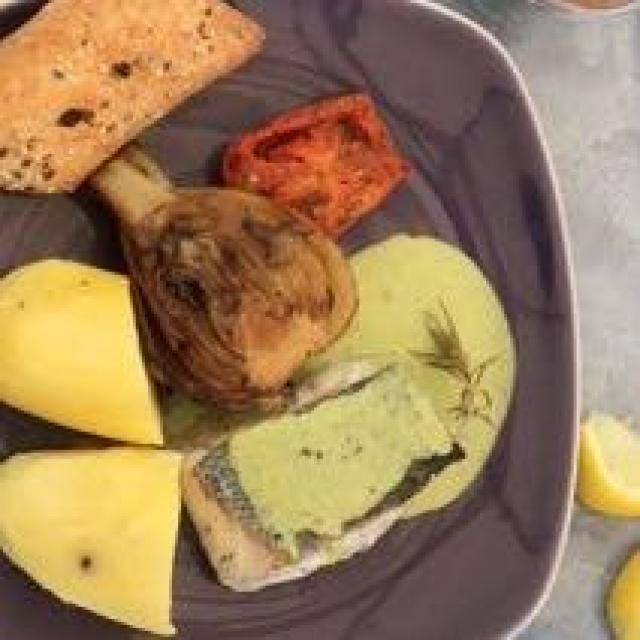bread: (7, 2, 271, 197)
cake: (113, 157, 386, 408)
fish: (143, 326, 476, 629)
sauce: (258, 218, 537, 554)
tomato: (207, 93, 410, 246)
